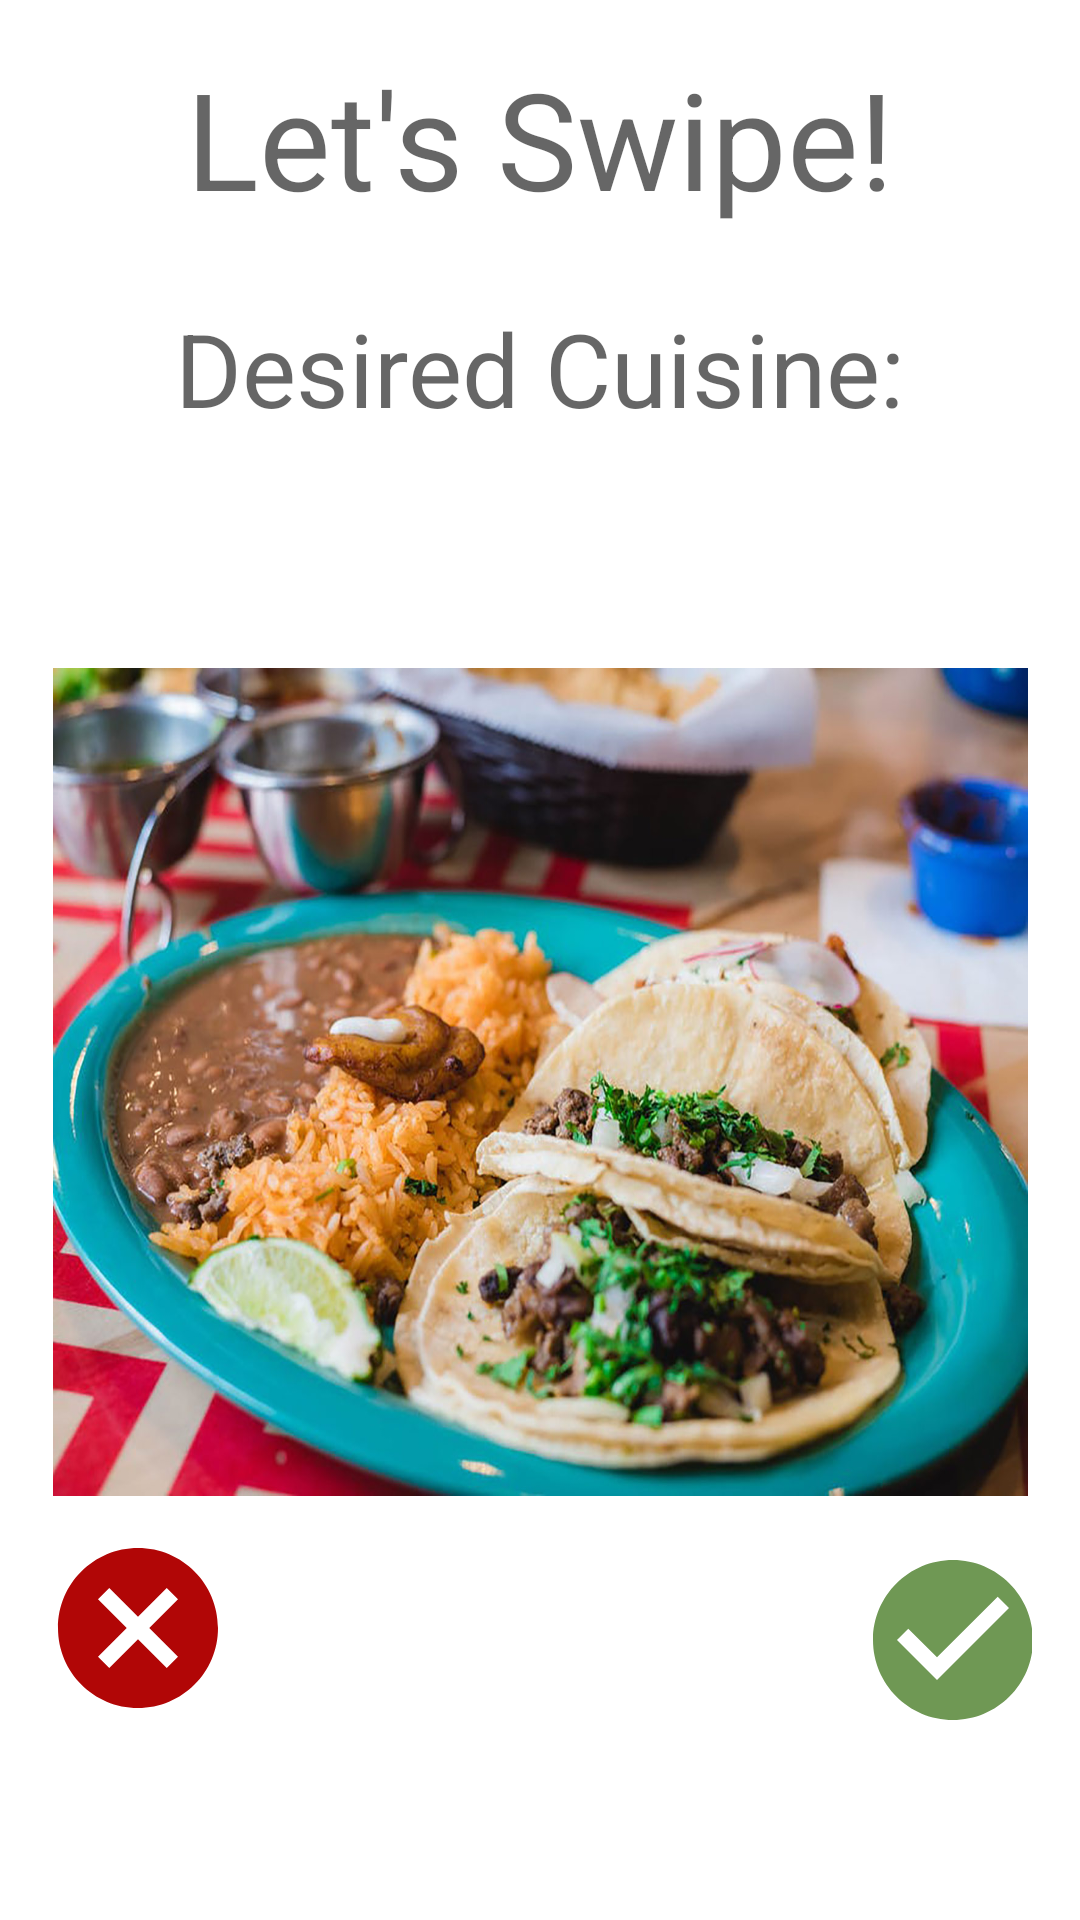

Named icons in this screenshot (1080x1920) and their centers, (x=x, y=y):
cancel: (x=138, y=1628)
check circle: (x=952, y=1640)
